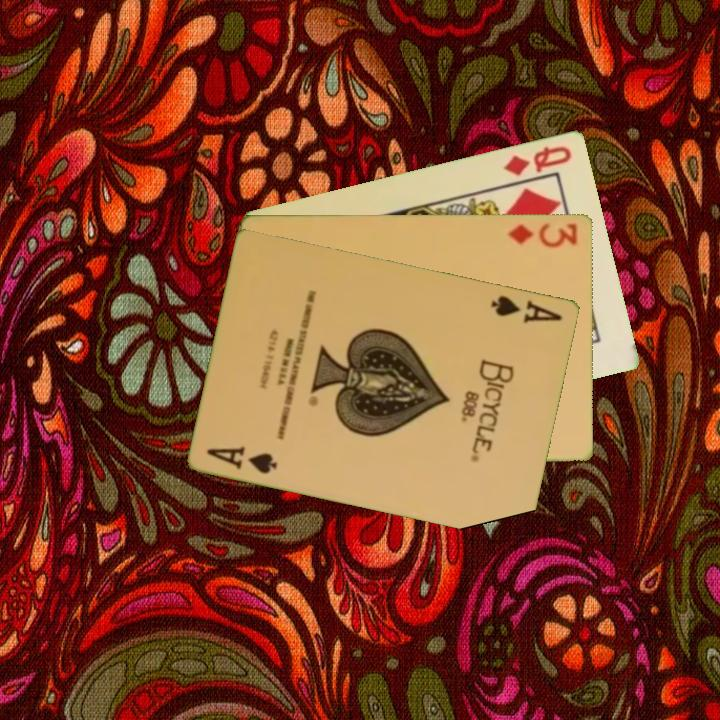3d: (504, 219, 580, 250)
As: (488, 291, 566, 326), (203, 442, 281, 477)
Qd: (500, 141, 575, 178)
